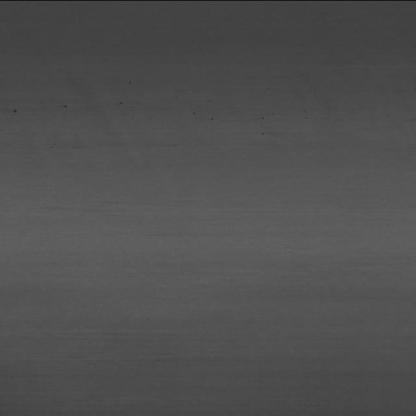inclusion: (117, 96, 128, 106), (10, 106, 22, 115), (202, 115, 219, 121), (60, 103, 73, 108)
